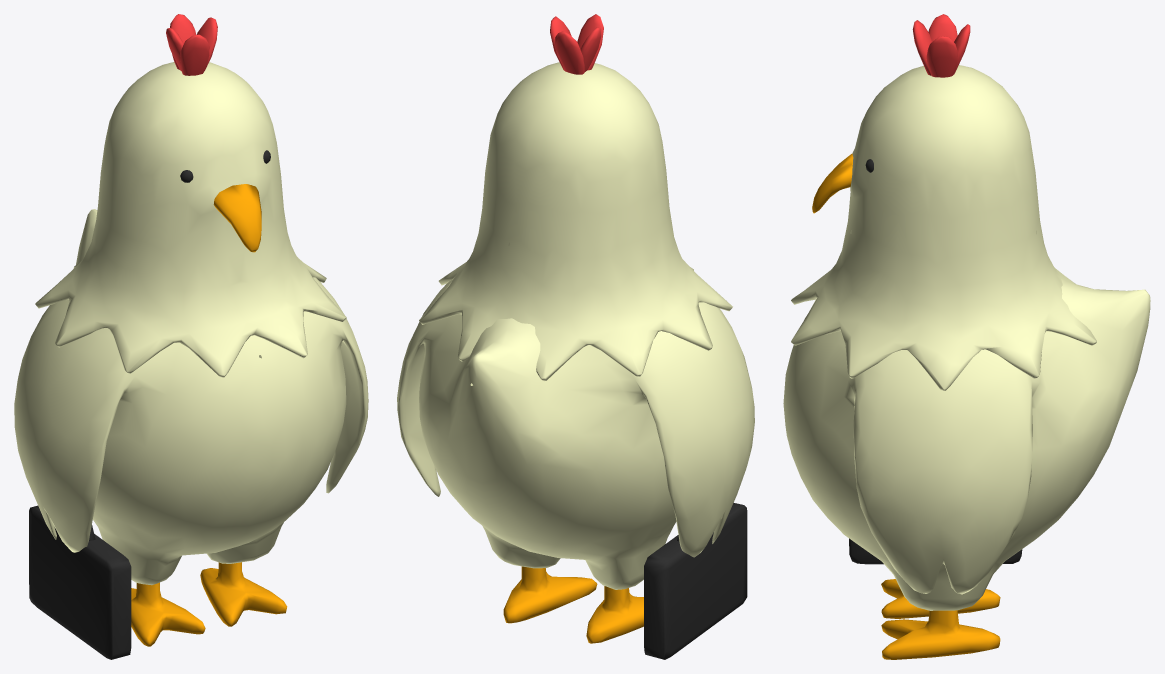
File: chicken.fbx
3 renders of one model, left to right at view 1: azimuth 30°, elevation 25°; view 2: azimuth 150°, elevation 25°; view 3: azimuth 270°, elevation 25°, orthographic. The views are drawn at different scales.
Parts seen in each view (by area): view 1: chicken; view 2: chicken; view 3: chicken.
Boxes of the visible parts, <box> form: chicken: <box>14,14,368,659</box>; chicken: <box>397,14,754,659</box>; chicken: <box>783,14,1150,659</box>.
Bounding box in the file's own units: 2.4 × 4.29 × 2.36.
Materials: 1 (1 with a texture image).
